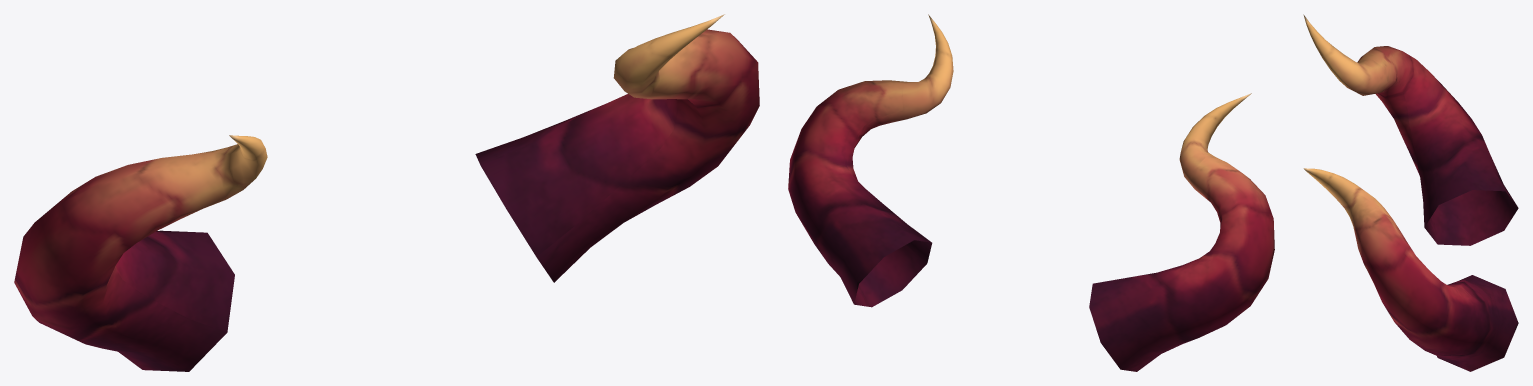
File: Hara_horn.fbx
The picture shows the model from 3 angles, left to right: view 1: azimuth 30°, elevation 25°; view 2: azimuth 150°, elevation 25°; view 3: azimuth 270°, elevation 25°; orthographic projection. The views are drawn at different scales.
Parts seen in each view (by area): view 1: Hara_horn; view 2: Hara_horn; view 3: Hara_horn.
Part boxes in pixels (left/top/right/bottom): Hara_horn: left=14, top=14, right=759, bottom=371; Hara_horn: left=788, top=14, right=1274, bottom=371; Hara_horn: left=1303, top=14, right=1518, bottom=371.
Size of the model in its own units: 2.5 by 1.13 by 1.01.
